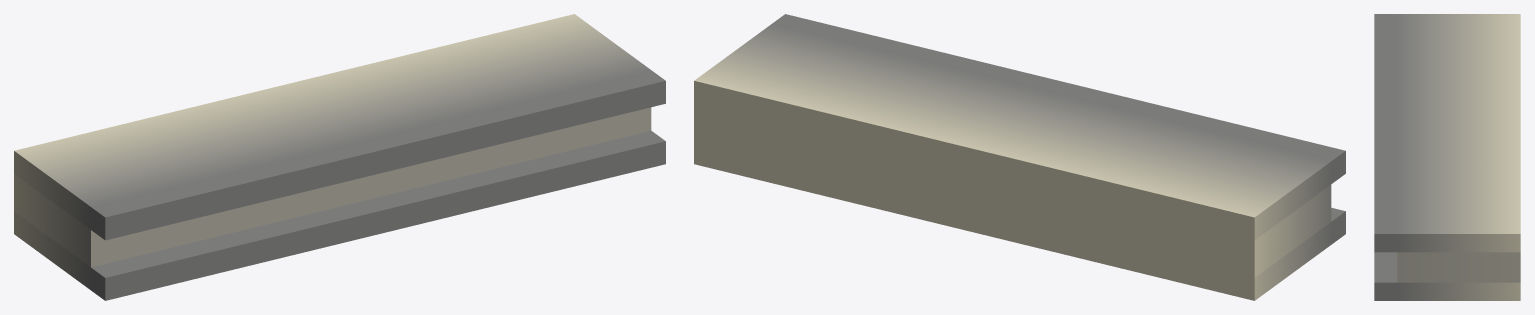
File: B02_intersection_etage_5.fbx
3 views of the same model, side by side, from view 1: azimuth 30°, elevation 25°; view 2: azimuth 150°, elevation 25°; view 3: azimuth 270°, elevation 25° (orthographic). The views are drawn at different scales.
Visible parts, largest first — view 1: B02_intersection_etage_5; view 2: B02_intersection_etage_5; view 3: B02_intersection_etage_5.
Part boxes in pixels (bbox=[...]): B02_intersection_etage_5: bbox=[14, 14, 665, 300]; B02_intersection_etage_5: bbox=[694, 14, 1345, 300]; B02_intersection_etage_5: bbox=[1374, 14, 1520, 300].
Bounding box in the file's own units: 375 × 53.36 × 106.
